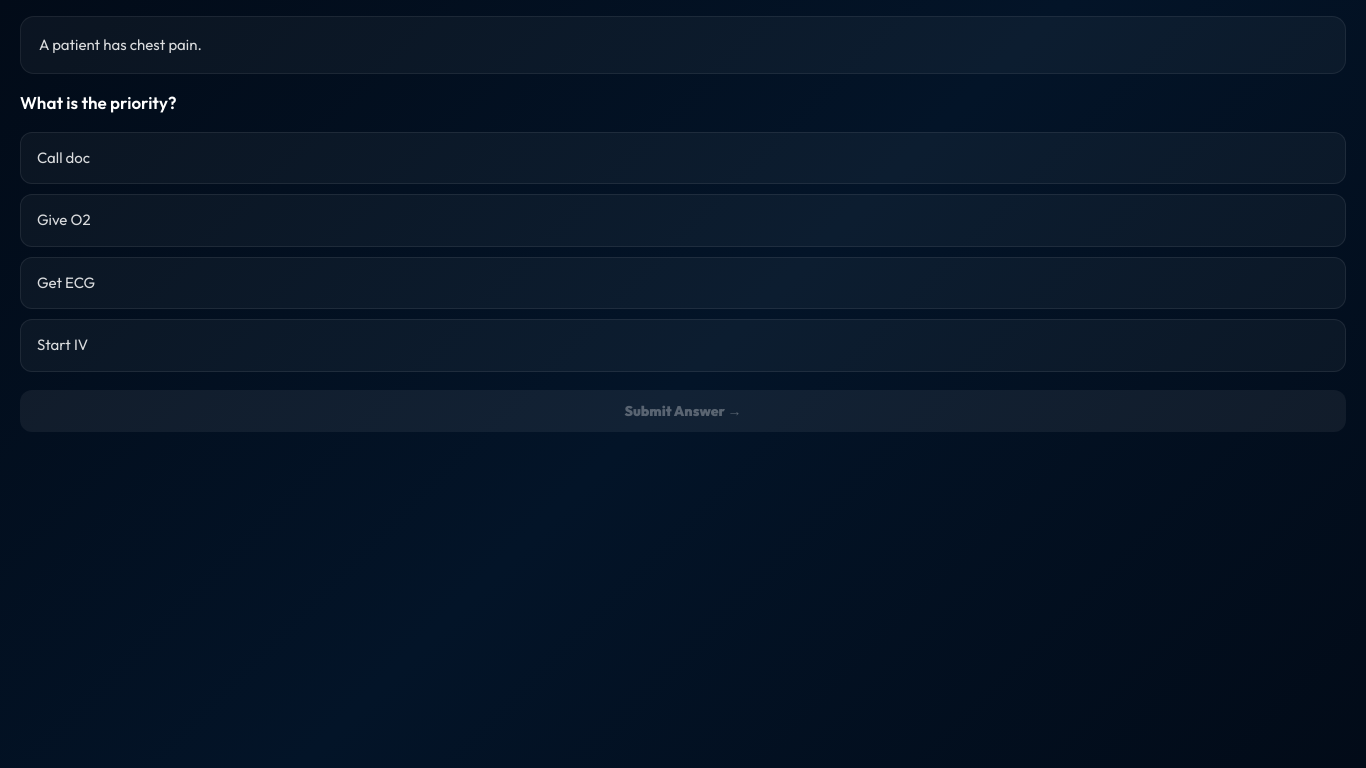
Test: NGNCardScreen › study mode reveals rationale once the answer has been scored
Expected: the text "Rationale" is not shown
Click the button "Give O2".
click(64, 220)  # box 20,194 -> 1346,246
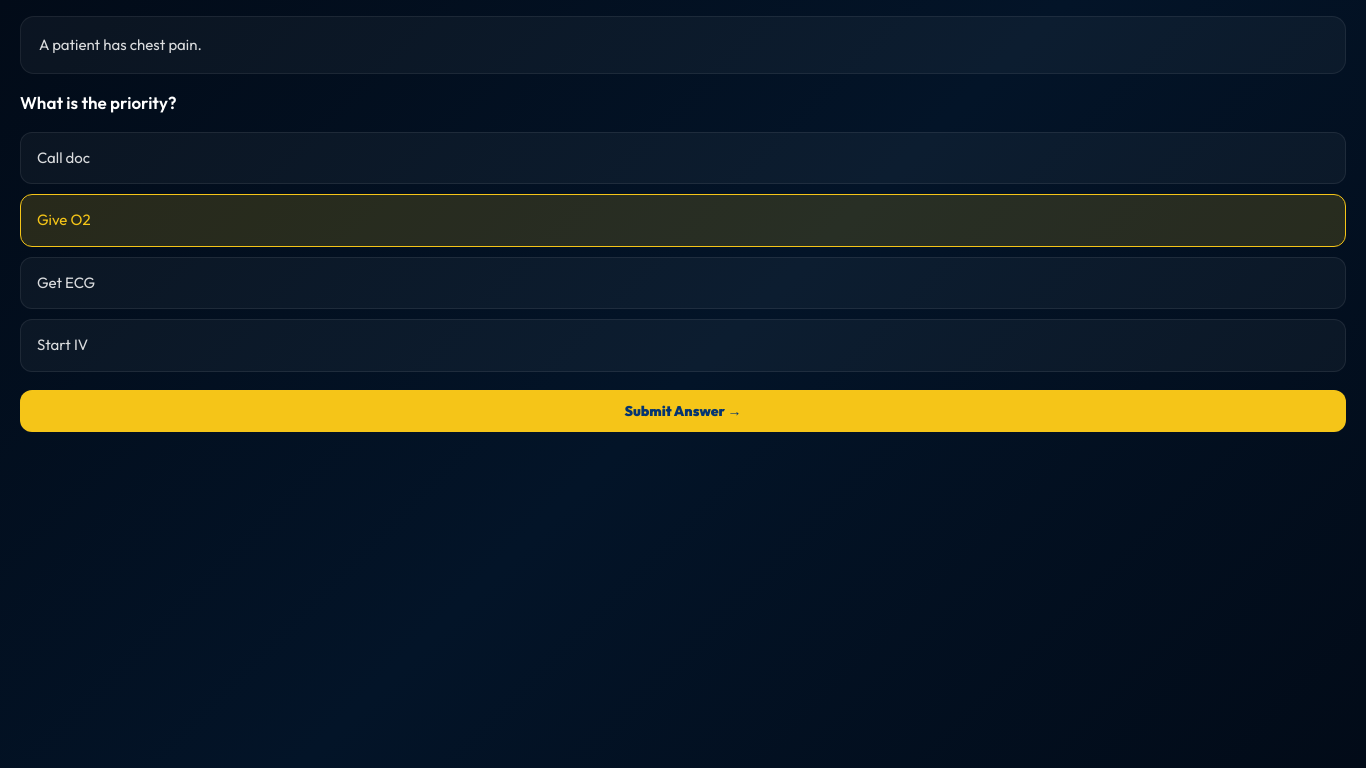
Click the button "Submit Answer →".
click(683, 410)  # box 20,390 -> 1346,432
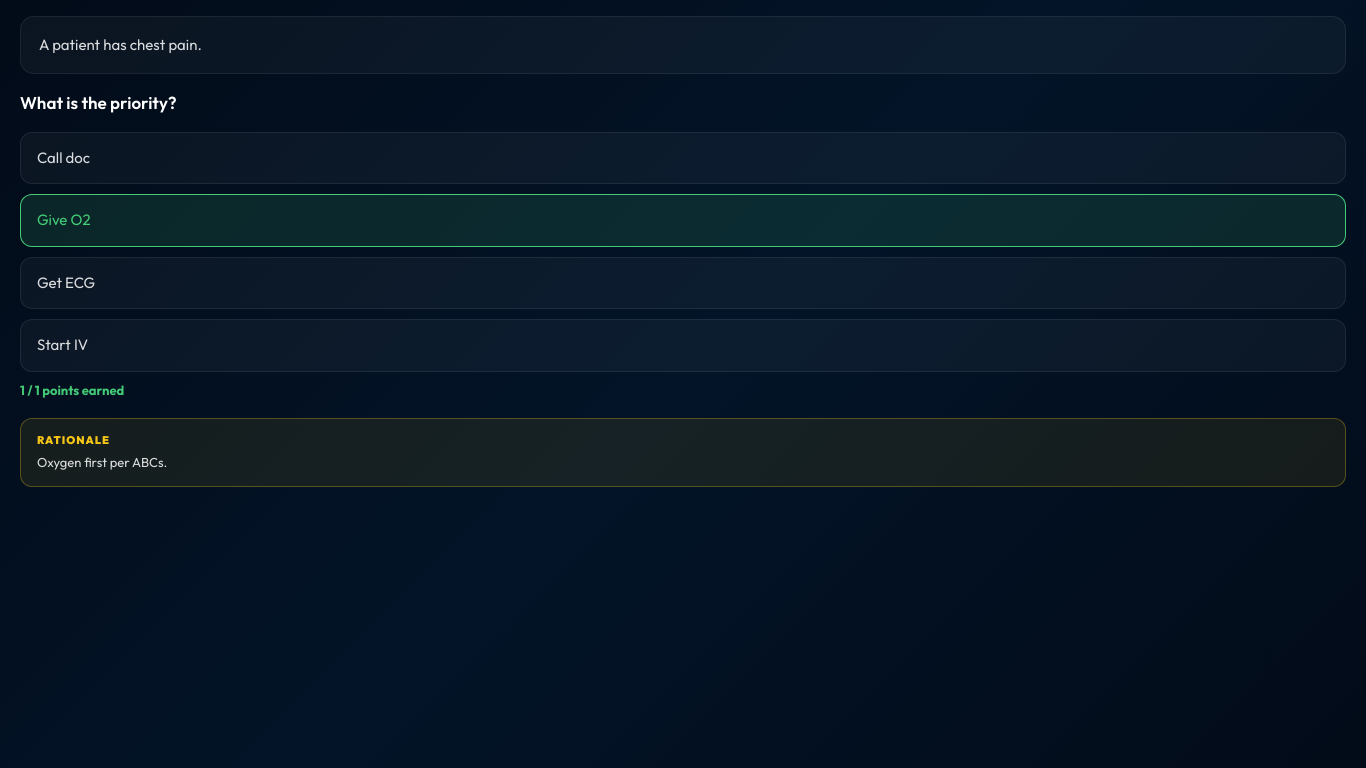
Expected: the text "Rationale" is shown, 37,432 -> 110,446
Expected: the text "Oxygen first per ABCs." is shown, 37,454 -> 167,470
